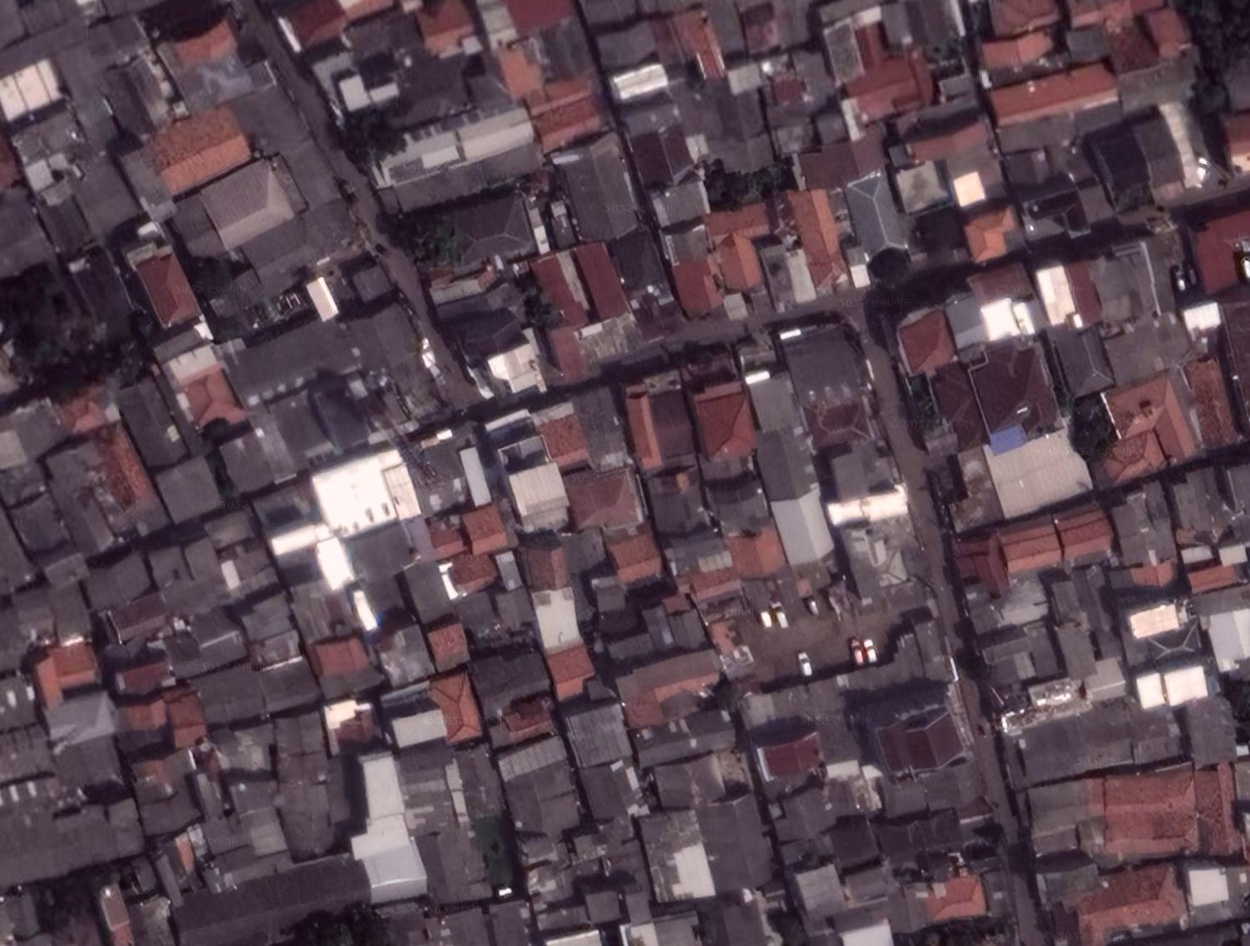building: (268, 488, 444, 643), (361, 91, 548, 224), (167, 847, 375, 946), (997, 686, 1187, 794), (0, 762, 149, 889), (113, 92, 259, 219), (793, 610, 956, 720), (363, 95, 538, 193), (229, 77, 344, 225), (190, 721, 292, 876), (219, 311, 361, 415), (166, 155, 298, 266), (491, 25, 604, 153), (208, 384, 333, 496), (605, 624, 728, 737), (147, 321, 253, 446), (1097, 0, 1207, 116), (152, 12, 277, 113), (71, 424, 172, 547), (983, 46, 1119, 132), (308, 444, 426, 543), (484, 405, 573, 536), (551, 129, 648, 248), (982, 420, 1095, 520), (737, 366, 818, 505), (1103, 368, 1204, 479), (964, 331, 1061, 445), (831, 17, 938, 119), (408, 734, 512, 838), (863, 687, 970, 788), (111, 214, 202, 332), (48, 1, 163, 94), (847, 509, 938, 616), (0, 718, 127, 794), (941, 272, 1048, 357), (691, 788, 771, 900), (653, 212, 737, 318), (496, 734, 582, 837), (43, 439, 115, 559), (21, 147, 104, 251), (153, 593, 253, 679), (57, 137, 141, 238), (1047, 561, 1126, 668), (1073, 863, 1191, 934), (353, 561, 459, 640), (638, 801, 715, 909), (567, 812, 654, 907), (98, 42, 185, 135), (111, 373, 190, 475), (736, 677, 847, 749), (693, 447, 778, 541), (340, 751, 415, 857), (786, 182, 855, 297), (791, 124, 892, 200), (779, 319, 865, 407), (465, 638, 557, 720), (623, 372, 699, 471), (1088, 238, 1174, 325), (753, 41, 839, 128), (700, 205, 782, 296), (990, 668, 1093, 740), (561, 449, 647, 534), (3, 0, 95, 79), (299, 365, 377, 458), (147, 530, 233, 614), (1106, 310, 1197, 388), (240, 211, 331, 288), (702, 81, 778, 173), (1177, 196, 1250, 291), (60, 74, 140, 160), (400, 427, 476, 517), (11, 573, 94, 655), (62, 243, 138, 332), (976, 615, 1065, 691), (838, 169, 911, 261), (425, 495, 515, 568), (346, 292, 426, 374), (205, 250, 304, 316), (768, 485, 842, 573), (382, 338, 454, 428), (193, 659, 277, 736), (417, 823, 493, 908), (924, 359, 991, 454), (934, 445, 1005, 534), (763, 779, 847, 854), (633, 707, 741, 765), (687, 376, 761, 460), (1116, 595, 1205, 663), (528, 245, 596, 334), (306, 625, 383, 703), (147, 822, 222, 900), (579, 0, 659, 73), (453, 189, 534, 261), (1097, 804, 1205, 858), (1046, 316, 1117, 398), (1100, 761, 1198, 820), (887, 303, 962, 379), (1108, 483, 1174, 568), (1092, 124, 1154, 214), (668, 2, 734, 86), (0, 394, 70, 473), (1177, 687, 1244, 769), (377, 680, 452, 753), (376, 900, 495, 946), (1130, 109, 1191, 198), (1022, 773, 1111, 834), (411, 0, 486, 72), (644, 464, 716, 539), (79, 546, 157, 615), (1181, 354, 1237, 450), (10, 103, 90, 170), (572, 384, 635, 469), (28, 632, 102, 704), (0, 183, 54, 281), (579, 747, 649, 822), (444, 301, 526, 365), (357, 844, 436, 910), (903, 113, 994, 170), (967, 574, 1052, 635), (562, 695, 633, 768), (820, 435, 899, 500), (474, 0, 577, 49), (654, 747, 730, 813), (699, 594, 757, 680), (1169, 463, 1230, 544), (249, 474, 323, 540), (265, 511, 342, 574), (940, 143, 1010, 212), (630, 119, 696, 192), (132, 779, 206, 844), (1016, 182, 1091, 246), (1196, 585, 1250, 673), (371, 616, 436, 689), (512, 821, 576, 895), (997, 514, 1072, 577), (574, 237, 631, 319), (535, 316, 598, 390), (951, 529, 1013, 604), (621, 889, 704, 945), (660, 515, 730, 581), (259, 648, 331, 712), (536, 394, 594, 473), (154, 458, 223, 524), (1195, 766, 1245, 857), (347, 522, 424, 581), (572, 308, 646, 369), (274, 0, 353, 57), (1133, 658, 1210, 716), (805, 392, 880, 451), (430, 666, 486, 744), (995, 106, 1079, 158), (726, 519, 793, 584), (824, 483, 911, 533), (694, 891, 773, 946), (530, 582, 590, 654), (7, 490, 70, 558), (299, 195, 363, 261), (43, 690, 118, 746), (603, 525, 669, 588), (976, 26, 1058, 76), (483, 336, 546, 401), (875, 812, 964, 858), (155, 677, 214, 746), (788, 858, 850, 923), (318, 691, 381, 754), (960, 202, 1024, 264), (1053, 499, 1119, 559), (919, 762, 988, 819), (751, 730, 828, 781), (0, 62, 69, 118), (921, 868, 990, 924), (218, 534, 279, 597), (822, 755, 882, 818), (105, 588, 174, 642), (57, 382, 121, 440), (679, 550, 743, 608), (1031, 854, 1101, 907), (965, 258, 1035, 311), (1101, 424, 1166, 481), (890, 156, 951, 216), (938, 288, 994, 353), (485, 695, 556, 746), (826, 808, 883, 870), (545, 641, 601, 704), (0, 500, 36, 596), (1184, 852, 1250, 904), (1223, 302, 1249, 433), (308, 44, 365, 103), (124, 743, 200, 787), (1031, 260, 1080, 328), (819, 17, 867, 86), (368, 381, 423, 441), (838, 858, 898, 912), (274, 709, 333, 763), (452, 587, 505, 647), (734, 1, 789, 58), (92, 879, 138, 946), (521, 535, 572, 595), (1051, 618, 1100, 680), (530, 883, 592, 932), (1080, 653, 1136, 705), (880, 881, 932, 937), (814, 709, 863, 768), (205, 503, 265, 551), (902, 0, 964, 46), (281, 804, 338, 854), (482, 899, 542, 946), (310, 533, 357, 593), (558, 523, 611, 576), (442, 545, 498, 595), (236, 591, 295, 638), (975, 621, 1032, 669), (127, 894, 179, 946), (246, 625, 307, 669), (424, 615, 473, 669), (788, 553, 843, 600), (456, 442, 494, 507), (345, 255, 394, 305), (37, 544, 90, 590), (1002, 145, 1055, 191), (1184, 554, 1241, 596), (0, 883, 42, 938), (949, 794, 998, 841), (978, 295, 1024, 344), (492, 584, 537, 634), (780, 246, 818, 305), (1223, 459, 1249, 545), (769, 116, 818, 159), (0, 673, 36, 731), (1026, 620, 1061, 678), (667, 605, 709, 653), (1, 601, 30, 669), (588, 569, 630, 615), (303, 273, 341, 323), (809, 102, 850, 147), (741, 574, 785, 614), (333, 69, 372, 114), (605, 629, 655, 664), (115, 695, 166, 729), (641, 603, 677, 651), (1223, 110, 1249, 174), (1128, 558, 1178, 591), (113, 664, 174, 691), (724, 57, 765, 96), (771, 570, 806, 615), (281, 779, 329, 811), (493, 548, 524, 592), (366, 76, 403, 108), (589, 887, 622, 921), (545, 925, 603, 944), (660, 587, 693, 618), (1179, 542, 1214, 566), (1217, 541, 1248, 567)
tree: (333, 102, 405, 174), (389, 203, 464, 272), (2, 273, 56, 360), (1062, 392, 1117, 460), (706, 158, 780, 207), (911, 204, 971, 264), (281, 917, 385, 946), (96, 332, 149, 385), (184, 250, 238, 302), (38, 347, 94, 397), (863, 239, 916, 288), (904, 383, 944, 432), (895, 922, 980, 944), (203, 450, 237, 498), (208, 311, 244, 343), (523, 297, 557, 329), (681, 341, 711, 370), (200, 416, 230, 441)
